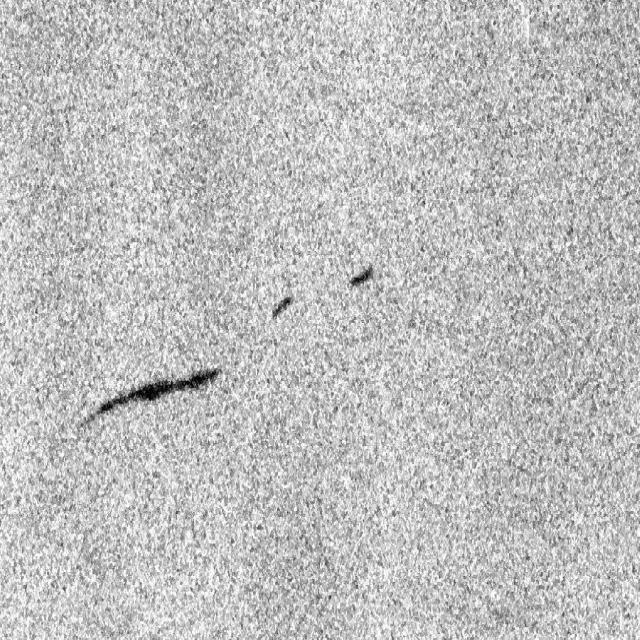oil-spill: (74, 368, 224, 436), (267, 287, 297, 332), (348, 254, 375, 298)
